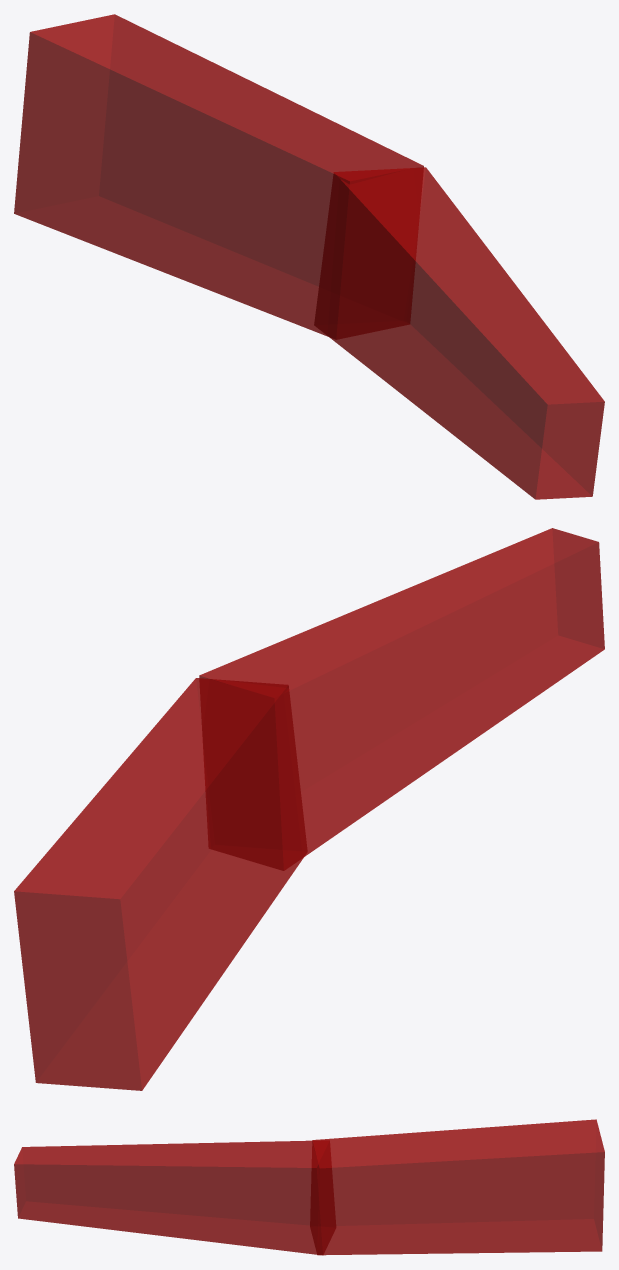
File: SM_Prop_Whale_Skeleton_Rib_02_Collision.fbx
3 views of the same model, one above another, from view 1: azimuth 30°, elevation 25°; view 2: azimuth 150°, elevation 25°; view 3: azimuth 270°, elevation 25° (orthographic). The views are drawn at different scales.
Parts seen in each view (by area): view 1: SM_Prop_Whale_Skeleton_Rib_02_Collision; view 2: SM_Prop_Whale_Skeleton_Rib_02_Collision; view 3: SM_Prop_Whale_Skeleton_Rib_02_Collision.
Boxes of the visible parts, <box> form: SM_Prop_Whale_Skeleton_Rib_02_Collision: <box>14,14,604,499</box>; SM_Prop_Whale_Skeleton_Rib_02_Collision: <box>14,528,604,1090</box>; SM_Prop_Whale_Skeleton_Rib_02_Collision: <box>14,1119,604,1255</box>.
Bounding box in the file's own units: 52.23 × 52.92 × 249.
